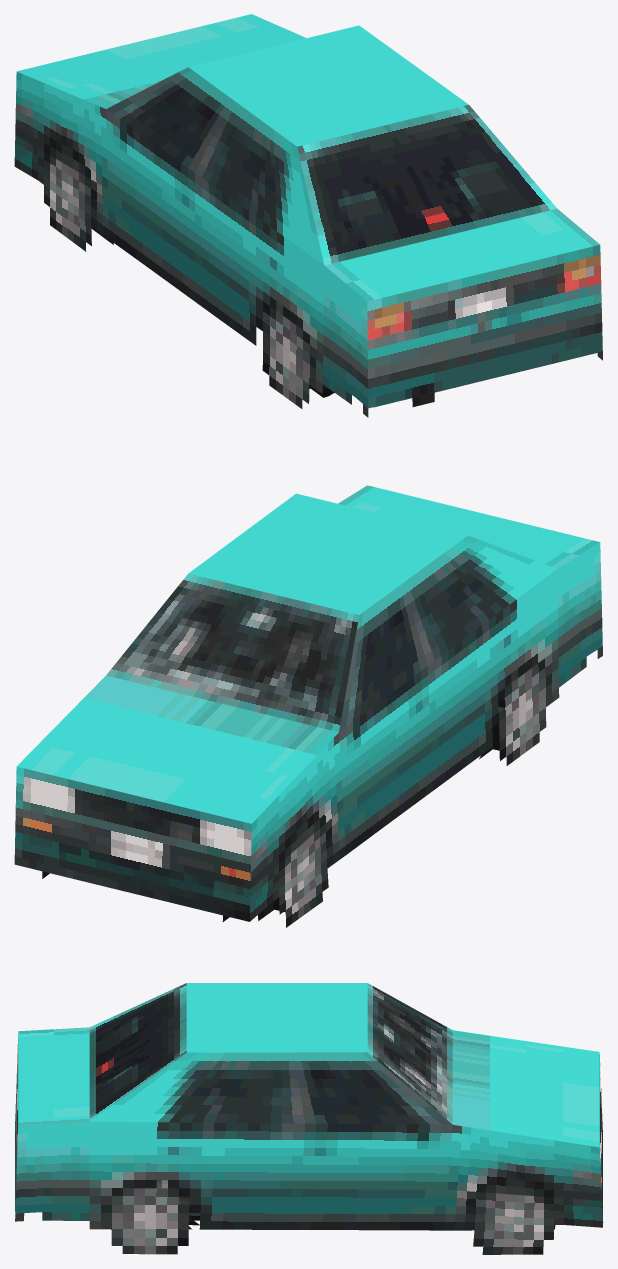
The model's file is car-jetta.glb.
3 renders of one model, top to bottom at view 1: azimuth 30°, elevation 25°; view 2: azimuth 150°, elevation 25°; view 3: azimuth 270°, elevation 25°, orthographic. The views are drawn at different scales.
Visible parts, largest first — view 1: plt0; view 2: plt0; view 3: plt0.
Part boxes in pixels (x1,y1,x2,y2): plt0: (14, 14, 602, 417); plt0: (14, 485, 602, 927); plt0: (15, 983, 603, 1254).
Bounding box in the file's own units: 1.67 × 1.53 × 4.33.
15 materials, 15 textured.
